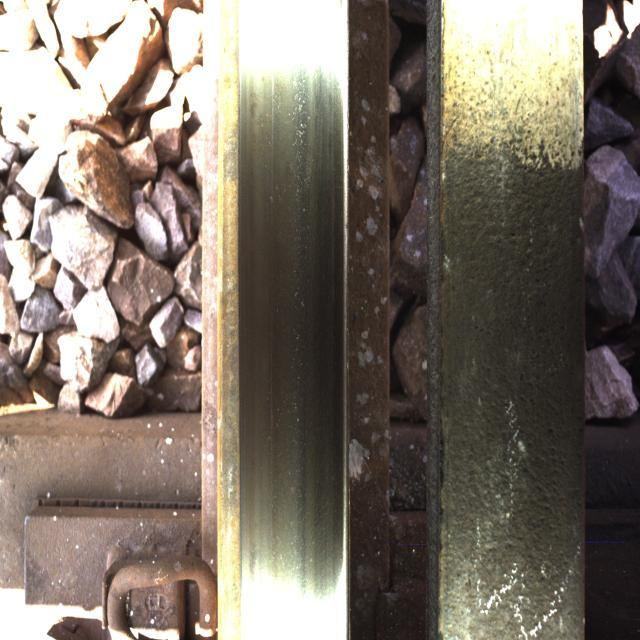normal: (232, 59, 342, 574)
